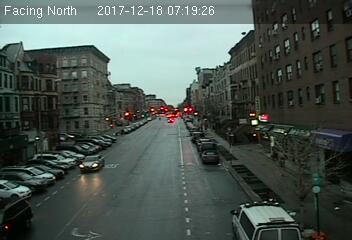car: (77, 154, 105, 174), (202, 150, 218, 163)
police: (229, 197, 311, 240)
